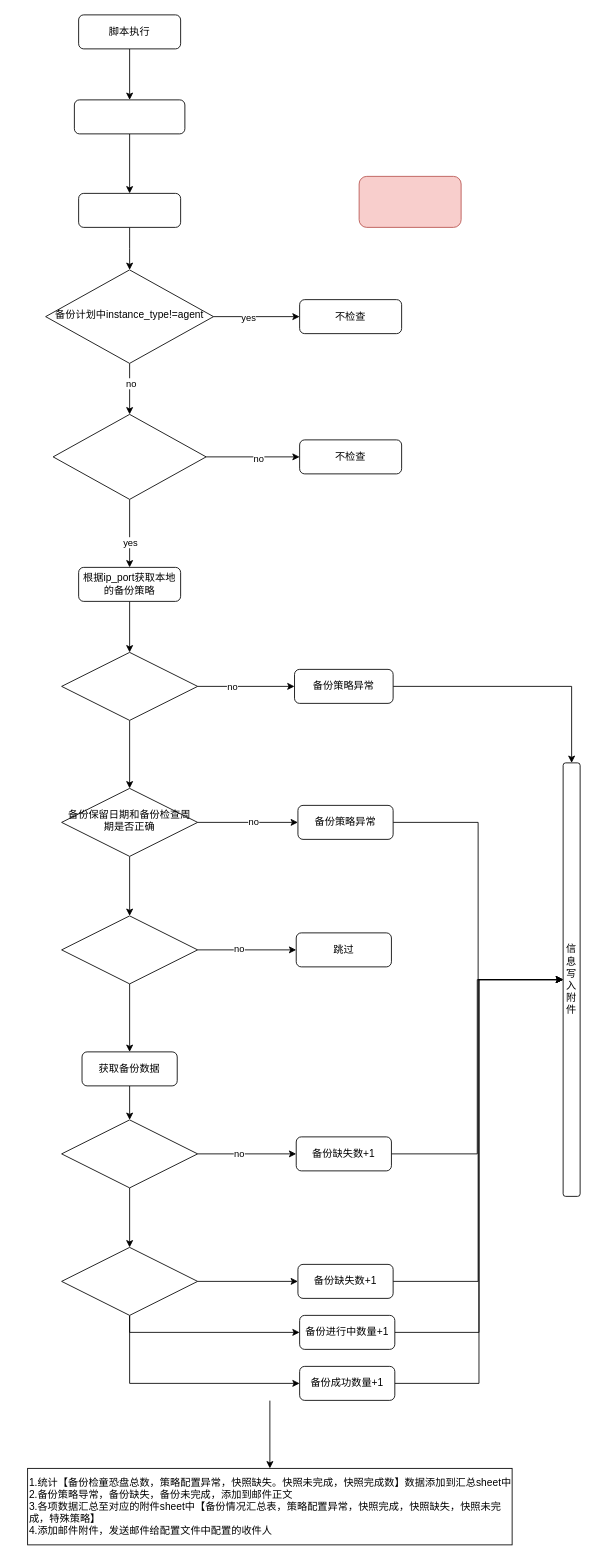
This 595x1560 diagram has some shape labels left out. Here are the shapes that lost their labels. From the top down, the box of each, then its label:
(74, 99, 185, 134): 读取策略配置csv文件、获取备份计划数据
(78, 193, 181, 227): 循环备份计划数据
(358, 176, 461, 227): 循环判断逻辑
(52, 414, 206, 499): 环境在默认配置中
(61, 652, 198, 720): 存在
(61, 915, 198, 984): 今天需要检查
(61, 1119, 198, 1188): 备份是否生成
(61, 1247, 198, 1315): 备份状态判断
